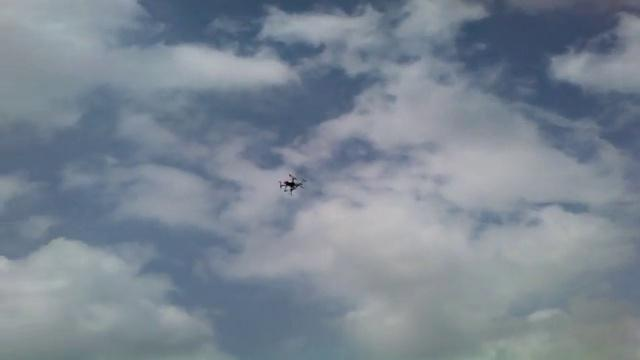drone: (276, 171, 306, 195)
